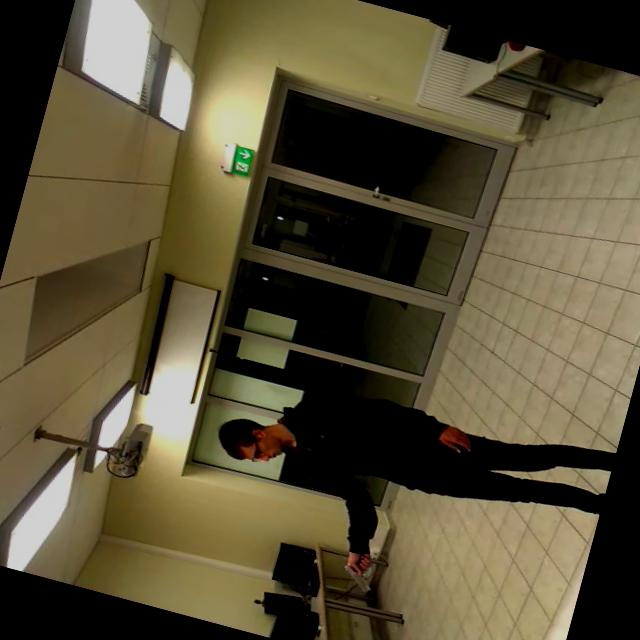handgun: (331, 537, 392, 605)
